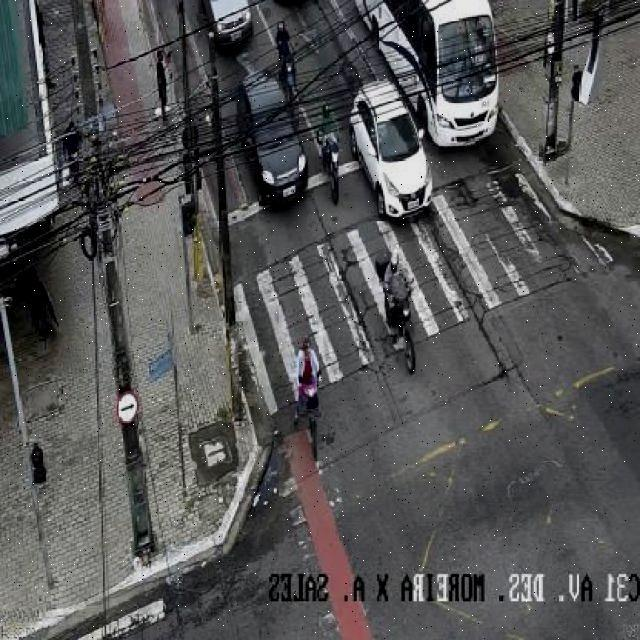Bus: (358, 0, 502, 152)
Car: (352, 78, 434, 220), (237, 73, 311, 212)
Cycle: (378, 251, 419, 378), (291, 338, 328, 464), (317, 105, 344, 203), (274, 16, 299, 96)
